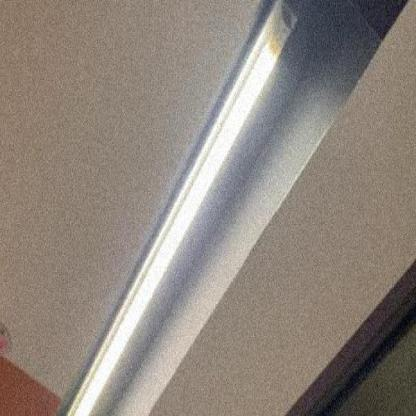light_on: (52, 0, 300, 415)
